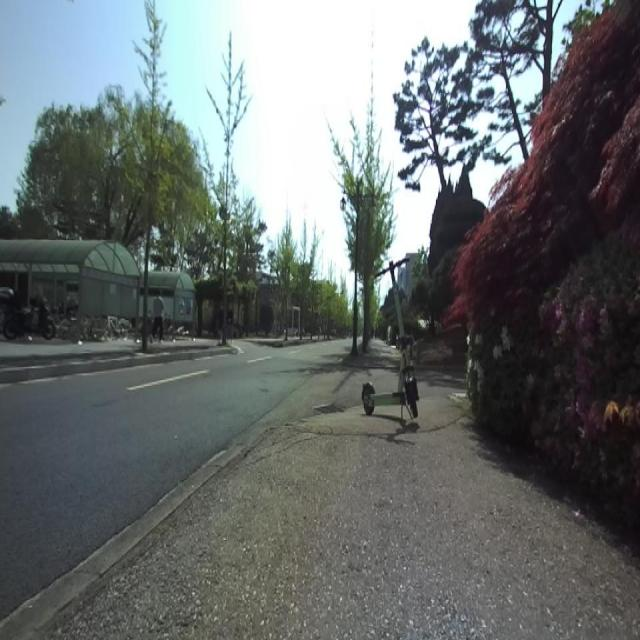sidewalk: (29, 396, 640, 640), (274, 366, 398, 424), (0, 344, 142, 362), (416, 364, 467, 398), (343, 339, 401, 367), (148, 344, 217, 350)
